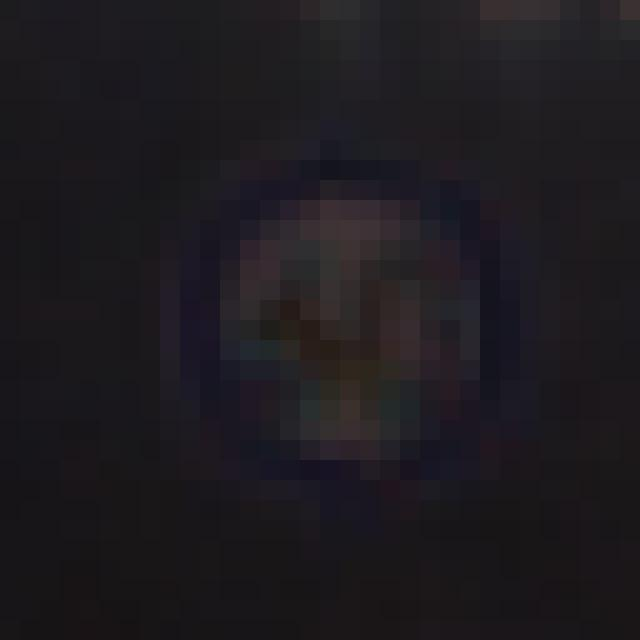SPEED-LIMIT-60: (118, 151, 538, 530)
